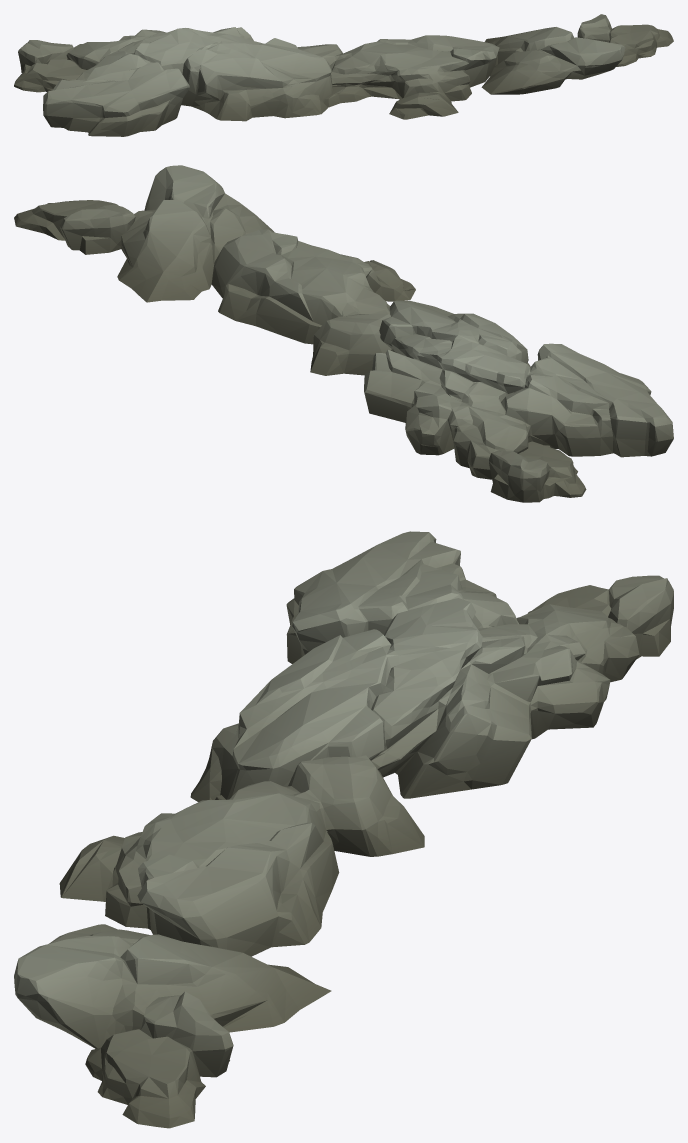
File: ZLP_Rock_E_14.FBX
The picture shows the model from 3 angles, top to bottom: view 1: azimuth 30°, elevation 25°; view 2: azimuth 150°, elevation 25°; view 3: azimuth 270°, elevation 25°; orthographic projection. The views are drawn at different scales.
Parts seen in each view (by area): view 1: ZLP_Rock_E_14; view 2: ZLP_Rock_E_14; view 3: ZLP_Rock_E_14.
Boxes of the visible parts, x1,y1,x2,y2 form: ZLP_Rock_E_14: (14, 14, 673, 136); ZLP_Rock_E_14: (14, 165, 673, 502); ZLP_Rock_E_14: (14, 531, 673, 1128).
Bounding box in the file's own units: 1542 × 130 × 788.
